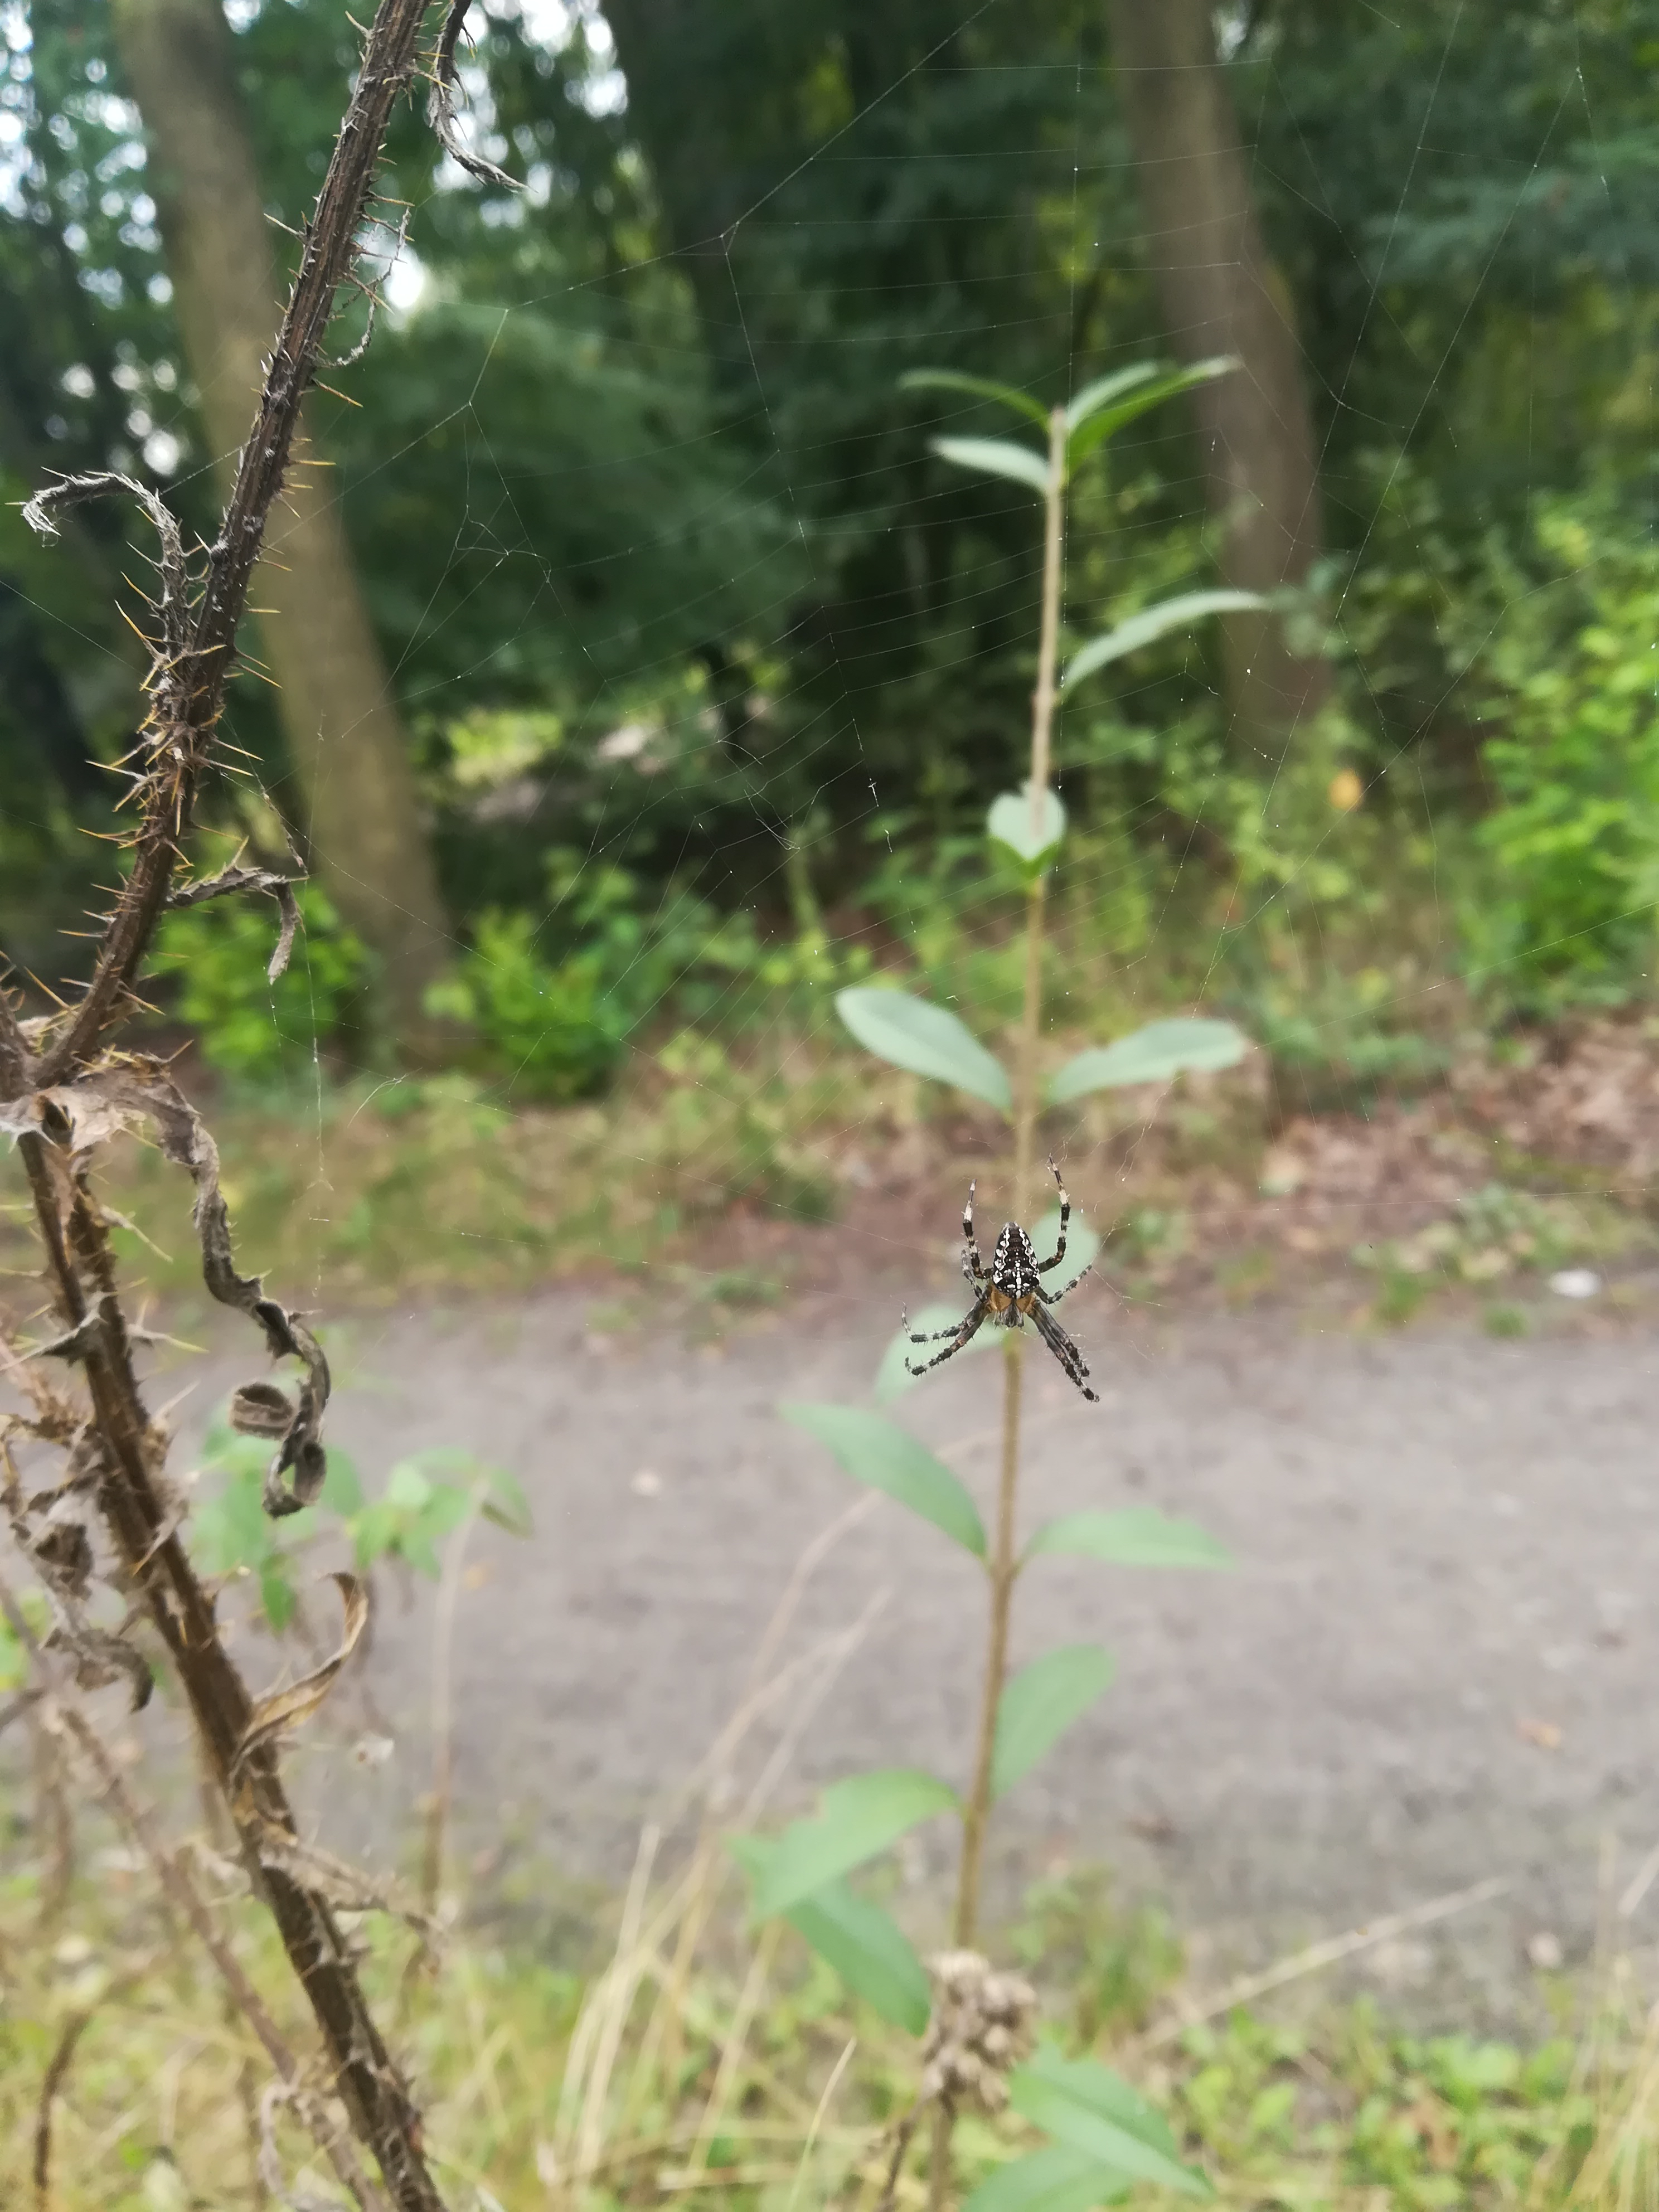spider: (887, 1151, 1155, 1414)
